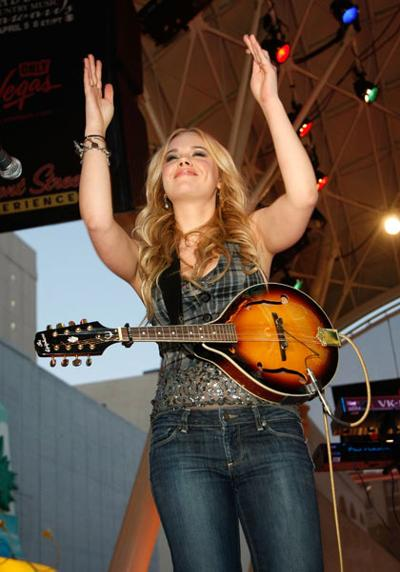person: (77, 27, 327, 572)
